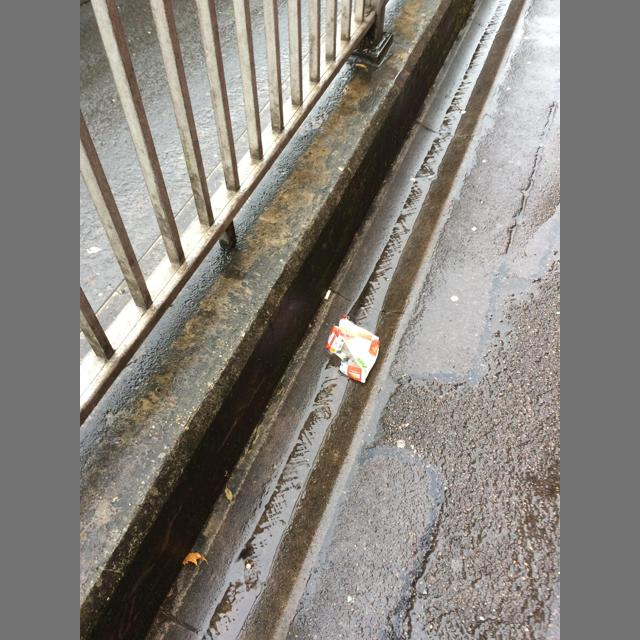litter: (325, 315, 380, 383), (324, 291, 331, 300)
